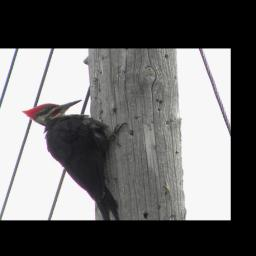Woodpecker: (20, 98, 129, 220)
